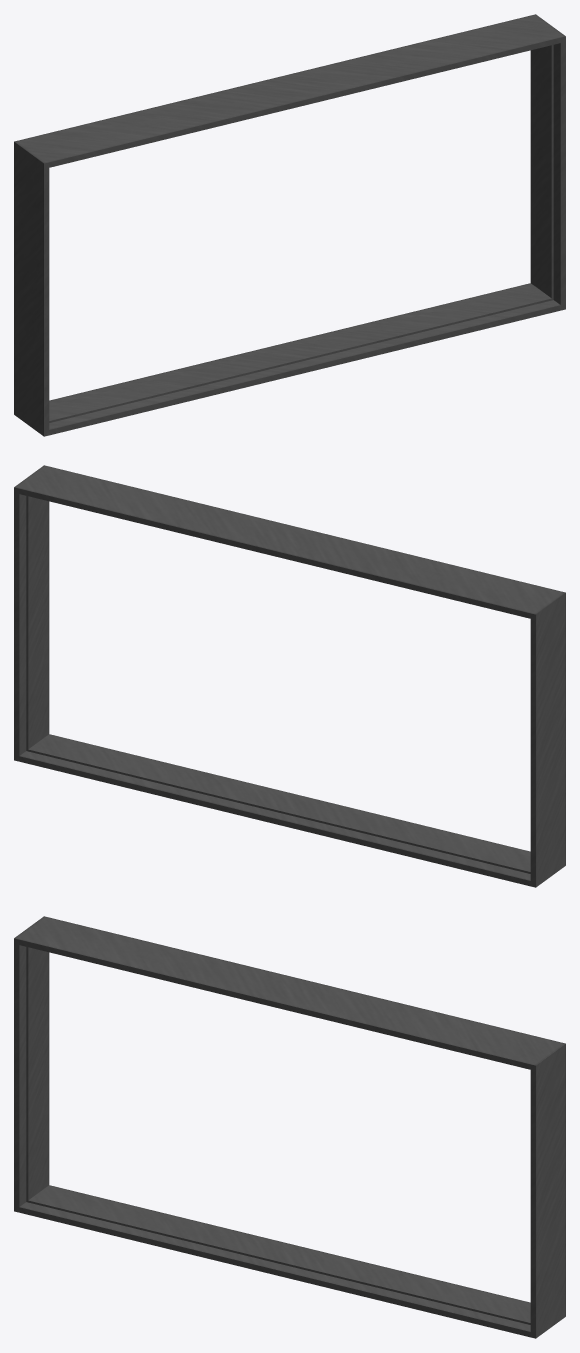
File: WinFrame3x1_5Horz.gltf
The picture shows the model from 3 angles, top to bottom: view 1: azimuth 30°, elevation 25°; view 2: azimuth 150°, elevation 25°; view 3: azimuth 330°, elevation 25°; orthographic projection.
Parts seen in each view (by area): view 1: WinFrame3x1_5HorzShape; view 2: WinFrame3x1_5HorzShape; view 3: WinFrame3x1_5HorzShape.
Part boxes in pixels (<box>): WinFrame3x1_5HorzShape: <box>14,14,565,436</box>; WinFrame3x1_5HorzShape: <box>14,465,565,887</box>; WinFrame3x1_5HorzShape: <box>14,916,565,1338</box>.
Size of the model in its own units: 3 by 1.5 by 0.3.
1 material, 1 textured.
